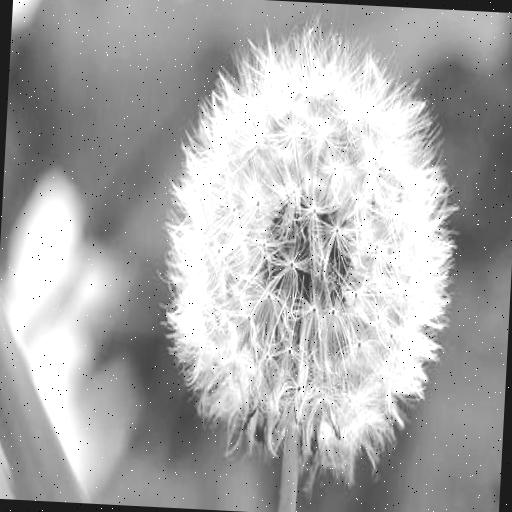dandelion: (151, 23, 468, 468)
